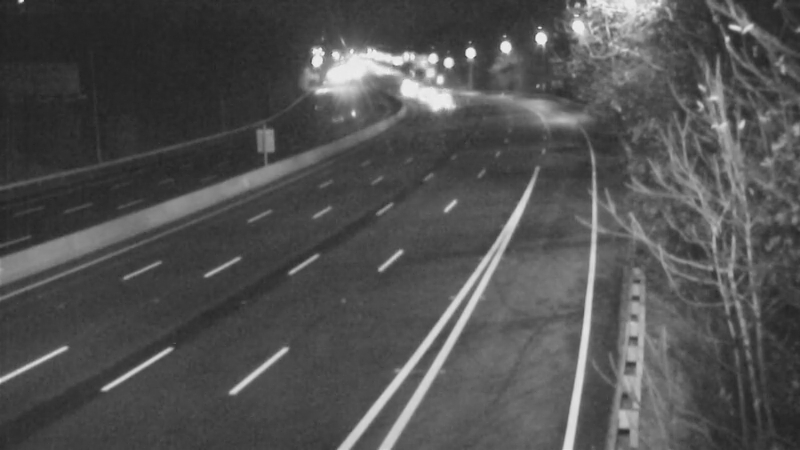vehicle: (384, 63, 434, 113), (395, 67, 445, 117), (414, 78, 464, 128)
